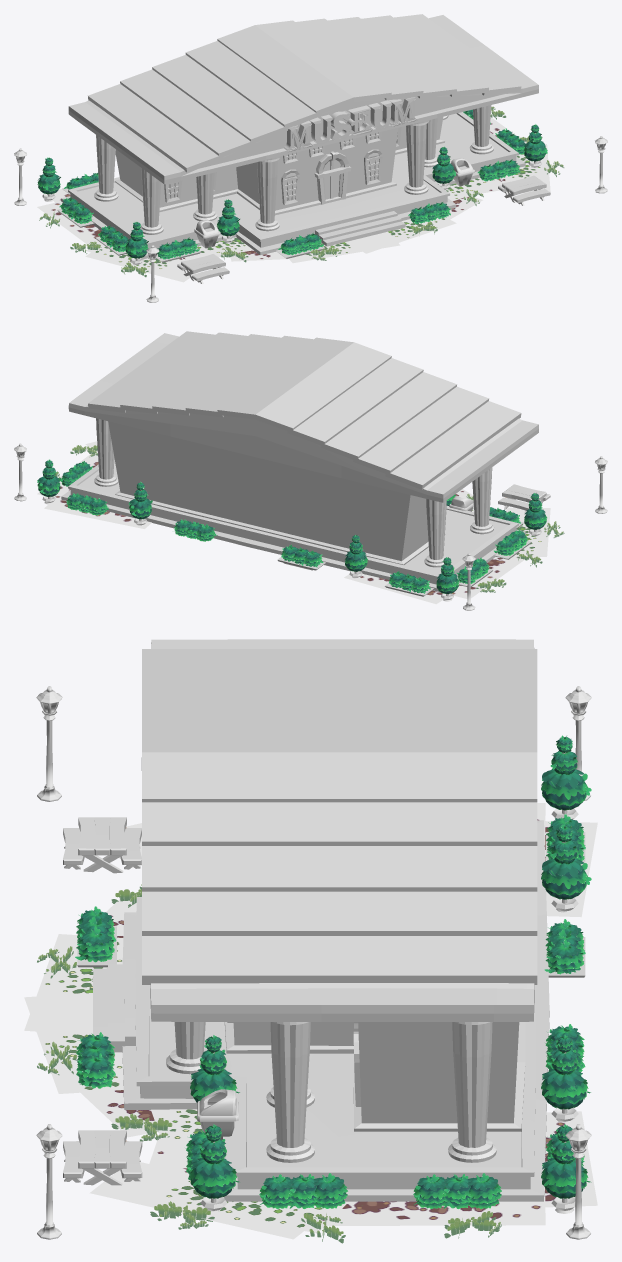
The model's file is Model_Museum.fbx.
3 views of the same model, one above another, from view 1: azimuth 30°, elevation 25°; view 2: azimuth 150°, elevation 25°; view 3: azimuth 270°, elevation 25° (orthographic). The views are drawn at different scales.
Visible parts, largest first — view 1: MuseumRoof, MuseumFloor, MuseumMain, Pillars, TEX_DEKOR.006, Text, Sphere.001, TEX_DEKOR.005, Cube.017, rumput.002, Cube.031, Cube.003 (+5 smaller); view 2: MuseumRoof, MuseumMain, MuseumFloor, Pillars, Sphere.001, TEX_DEKOR.005, Cube.041, Cube.031, Cube.025, TEX_DEKOR.006, rumput.002, Cube.017 (+1 smaller); view 3: MuseumRoof, MuseumFloor, MuseumMain, TEX_DEKOR.006, Sphere.001, Pillars, TEX_DEKOR.005, Cube.017, Cube.031, Cube.025, rumput.002, Cube.041 (+3 smaller).
Part boxes in pixels (bbox=[...]): MuseumRoof: bbox=[68, 14, 538, 184]; MuseumFloor: bbox=[61, 112, 525, 259]; MuseumMain: bbox=[115, 117, 444, 215]; Pillars: bbox=[94, 105, 493, 234]; TEX_DEKOR.006: bbox=[85, 144, 550, 282]; Text: bbox=[284, 97, 416, 152]; Sphere.001: bbox=[37, 124, 547, 265]; TEX_DEKOR.005: bbox=[37, 117, 526, 261]; Cube.017: bbox=[177, 175, 550, 283]; rumput.002: bbox=[39, 106, 564, 277]; Cube.031: bbox=[59, 109, 525, 251]; Cube.003: bbox=[278, 202, 450, 255]; MuseumRoof: bbox=[68, 331, 538, 502]; MuseumMain: bbox=[108, 421, 445, 564]; MuseumFloor: bbox=[61, 459, 525, 592]; Pillars: bbox=[94, 418, 494, 567]; Sphere.001: bbox=[37, 459, 547, 601]; TEX_DEKOR.005: bbox=[37, 450, 535, 604]; Cube.041: bbox=[65, 493, 430, 593]; Cube.031: bbox=[60, 461, 528, 583]; Cube.025: bbox=[14, 443, 607, 610]; TEX_DEKOR.006: bbox=[85, 441, 550, 556]; rumput.002: bbox=[55, 445, 564, 592]; Cube.017: bbox=[498, 484, 550, 513]; MuseumRoof: bbox=[141, 639, 537, 1021]; MuseumFloor: bbox=[93, 820, 549, 1201]; MuseumMain: bbox=[224, 1022, 525, 1131]; TEX_DEKOR.006: bbox=[24, 823, 332, 1239]; Sphere.001: bbox=[190, 735, 591, 1213]; Pillars: bbox=[166, 1022, 496, 1162]; TEX_DEKOR.005: bbox=[80, 803, 597, 1232]; Cube.017: bbox=[63, 817, 142, 1185]; Cube.031: bbox=[259, 1173, 501, 1209]; Cube.025: bbox=[36, 686, 591, 1239]; rumput.002: bbox=[37, 884, 501, 1243]; Cube.041: bbox=[544, 814, 585, 1166].
Size of the model in its own units: 4638 by 1259 by 2457.
